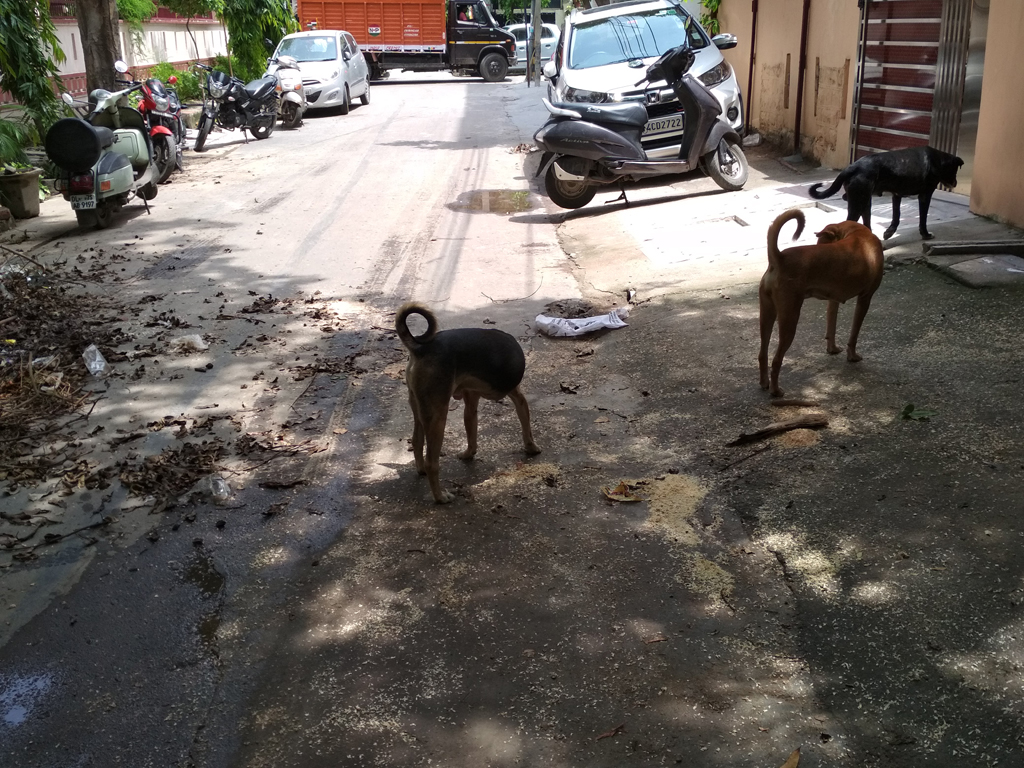dog: (394, 301, 545, 504), (759, 209, 886, 398), (809, 147, 959, 241)
